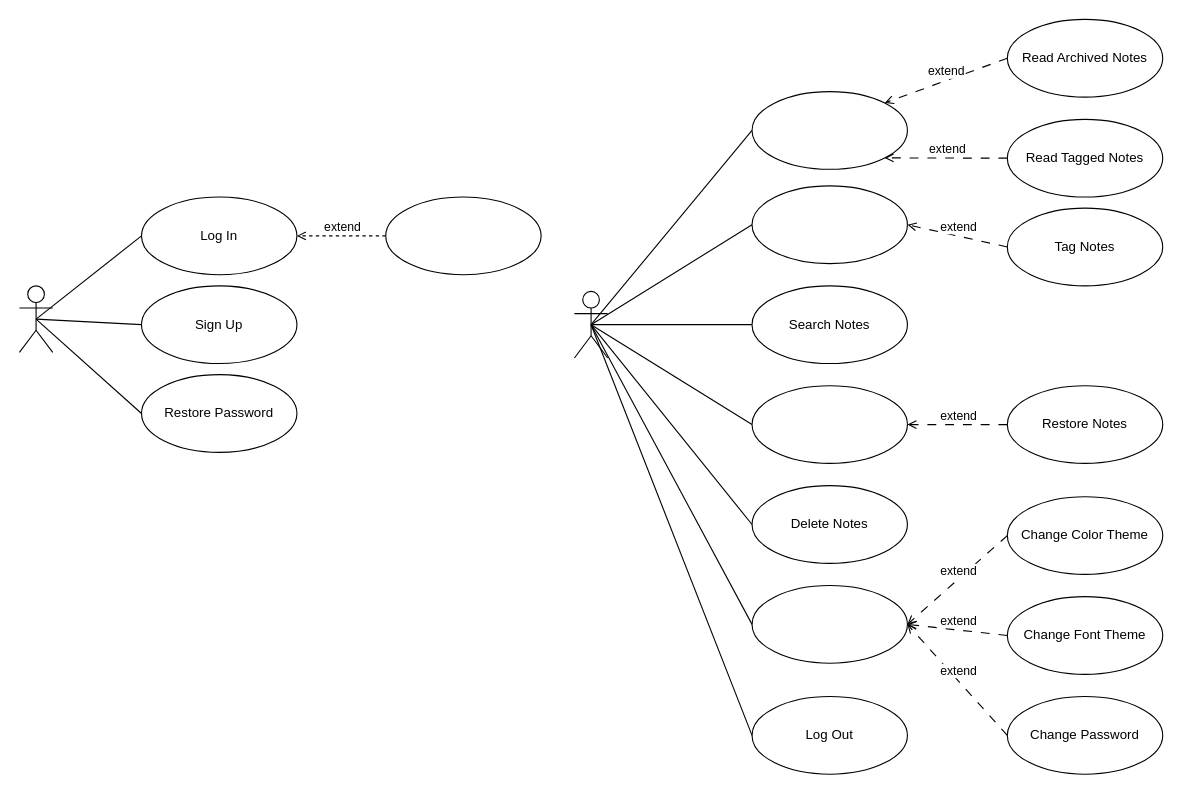
Some shapes in this 1182 by 794 pixel diagram are drawn without their labels. Here are the shapes that lost their labels. From the top down, the centre of each, then its label:
At point 829,129: "Read Notes".
At point 463,235: "Log In with Google".
At point 829,224: "Create Notes".
At point 35,318: "User".
At point 590,324: "Authorized User".
At point 829,424: "Archive Notes".
At point 829,623: "Change Settings".
